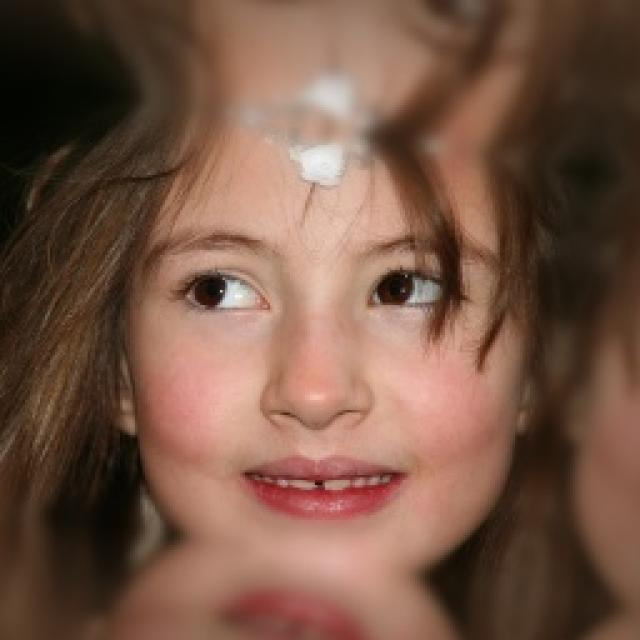no-glasses: (152, 250, 492, 344)
